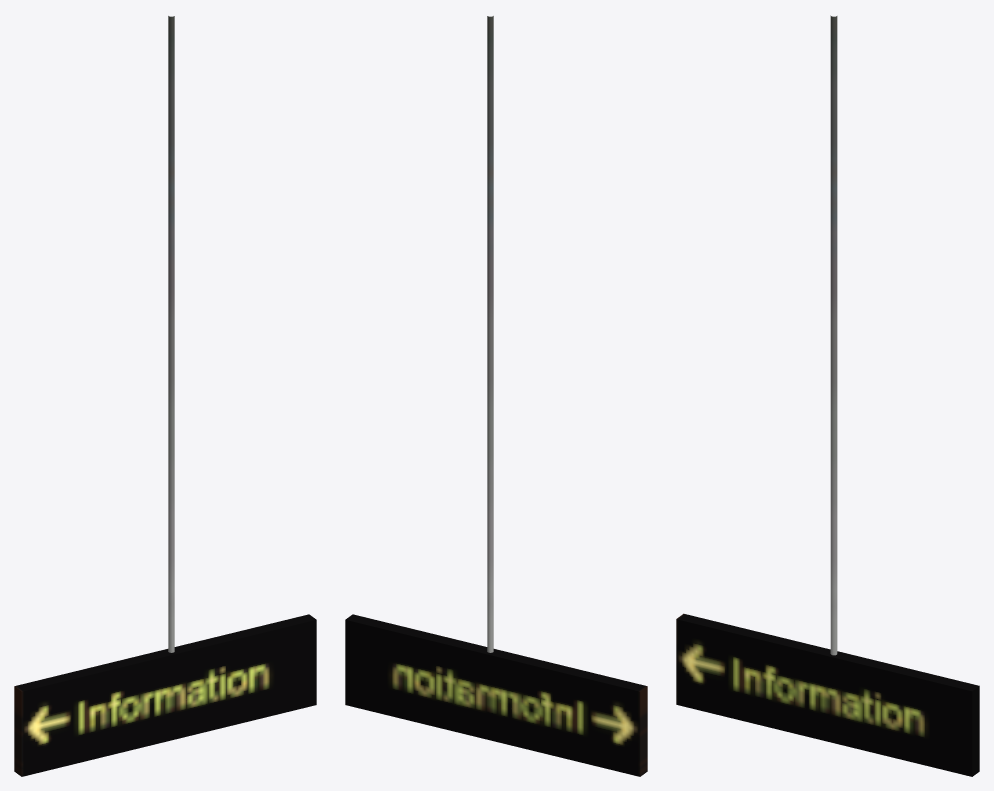
3 renders of one model, left to right at view 1: azimuth 30°, elevation 25°; view 2: azimuth 150°, elevation 25°; view 3: azimuth 330°, elevation 25°, orthographic.
Parts seen in each view (by area): view 1: AirportOverheadGateNumberSign03; view 2: AirportOverheadGateNumberSign03; view 3: AirportOverheadGateNumberSign03.
Boxes of the visible parts, x1=… form: AirportOverheadGateNumberSign03: x1=14, y1=16, x2=316, y2=776; AirportOverheadGateNumberSign03: x1=345, y1=16, x2=647, y2=776; AirportOverheadGateNumberSign03: x1=676, y1=15, x2=979, y2=776.
Size of what is drawn, in the model's own units: 1.66 by 3.87 by 0.0731.
Materials: 1 (1 with a texture image).
